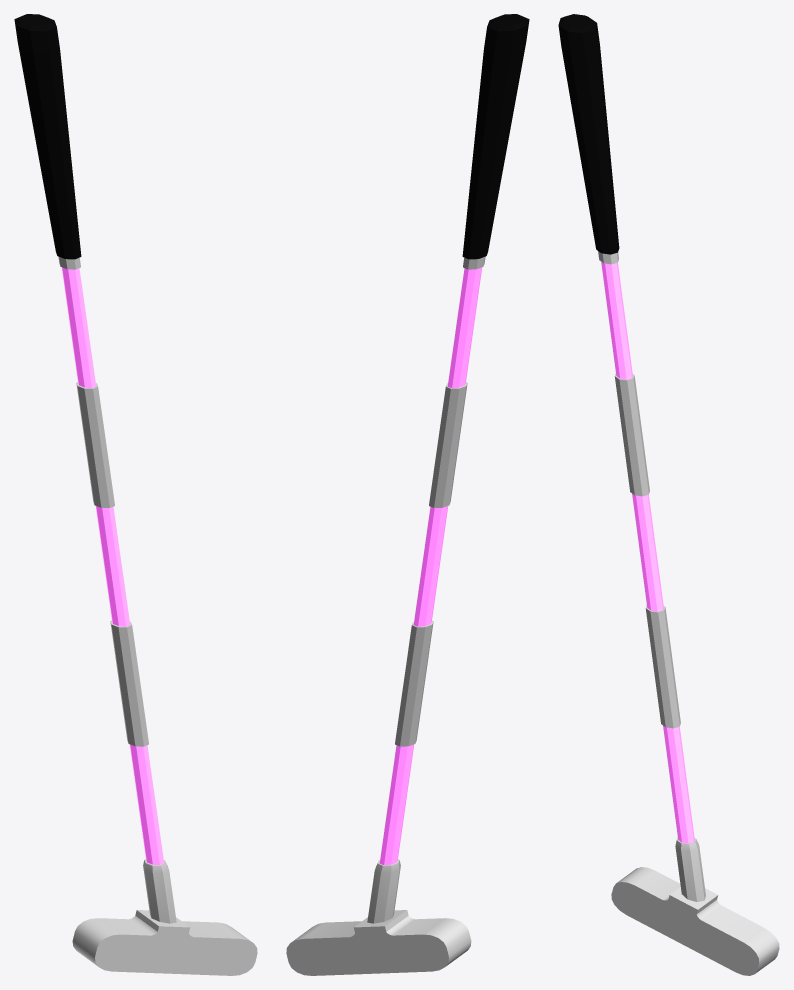
Rendered from Neon Club.glb.
3 views of the same model, side by side, from view 1: azimuth 30°, elevation 25°; view 2: azimuth 150°, elevation 25°; view 3: azimuth 330°, elevation 25° (orthographic). The views are drawn at different scales.
Parts seen in each view (by area): view 1: Neon Club.001; view 2: Neon Club.001; view 3: Neon Club.001.
Boxes of the visible parts, left/top/right/bottom form: Neon Club.001: left=14, top=14, right=257, bottom=975; Neon Club.001: left=286, top=14, right=529, bottom=975; Neon Club.001: left=558, top=14, right=779, bottom=975.
Bounding box in the file's own units: 0.2285 × 0.9469 × 0.0385.
